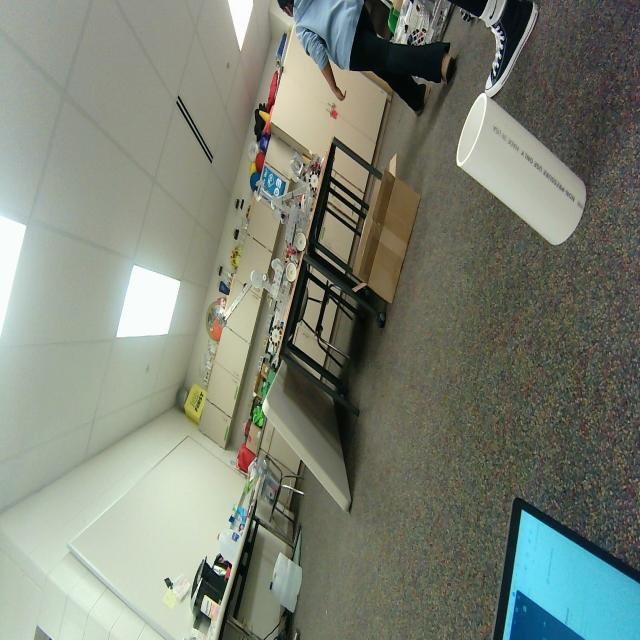coral: (456, 93, 586, 244)
